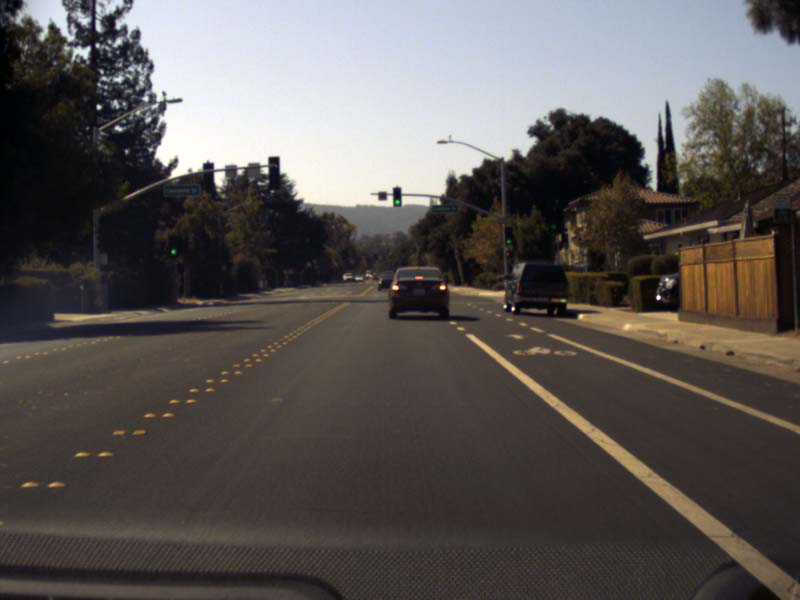Green: (549, 209, 561, 231), (504, 226, 512, 245), (393, 188, 401, 206)
